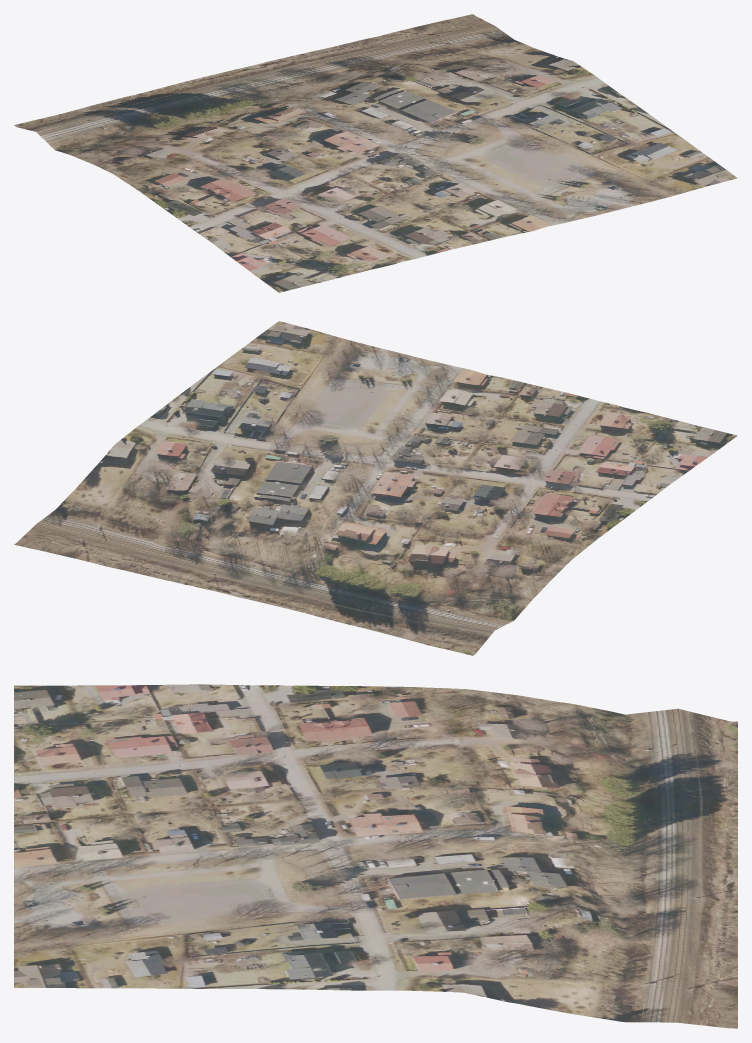
The model's file is CM_Terrain_24490868_6819794.fbx.
3 renders of one model, top to bottom at view 1: azimuth 30°, elevation 25°; view 2: azimuth 150°, elevation 25°; view 3: azimuth 270°, elevation 25°, orthographic. The views are drawn at different scales.
Visible parts, largest first — view 1: CM_Terrain_24490868_6819794_LOD0; view 2: CM_Terrain_24490868_6819794_LOD0; view 3: CM_Terrain_24490868_6819794_LOD0.
Boxes of the visible parts, x1,y1,x2,y2 form: CM_Terrain_24490868_6819794_LOD0: (14, 14, 737, 292); CM_Terrain_24490868_6819794_LOD0: (14, 321, 737, 655); CM_Terrain_24490868_6819794_LOD0: (14, 684, 737, 1028).
Size of what is drawn, in the model's own units: 205 by 12.83 by 205.
